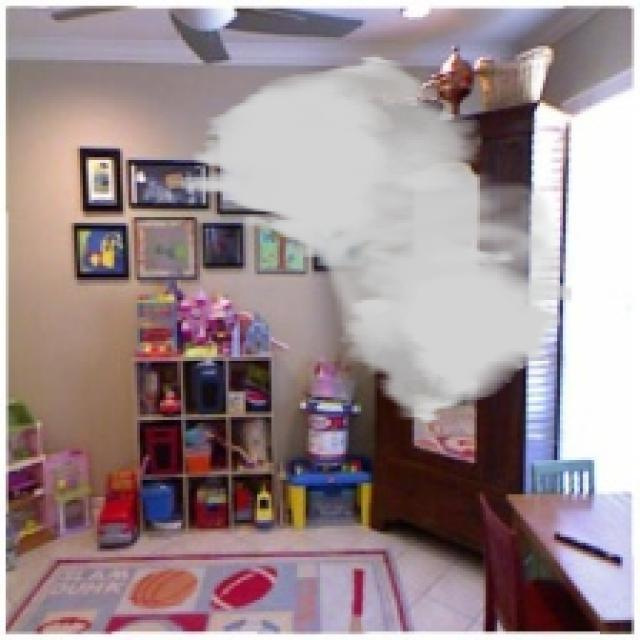Smoke: (180, 54, 574, 426)
